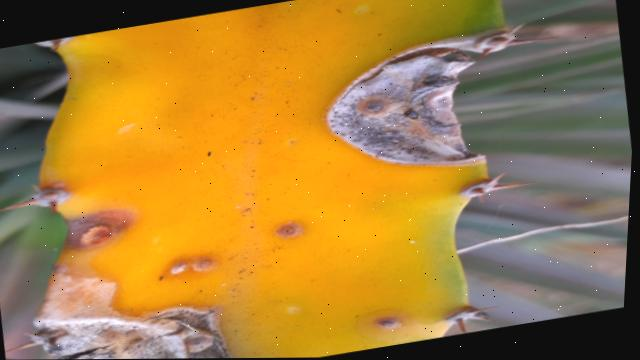stemcanker: (332, 33, 478, 168), (70, 205, 137, 253), (159, 250, 219, 285), (356, 306, 412, 341), (277, 219, 307, 243)
